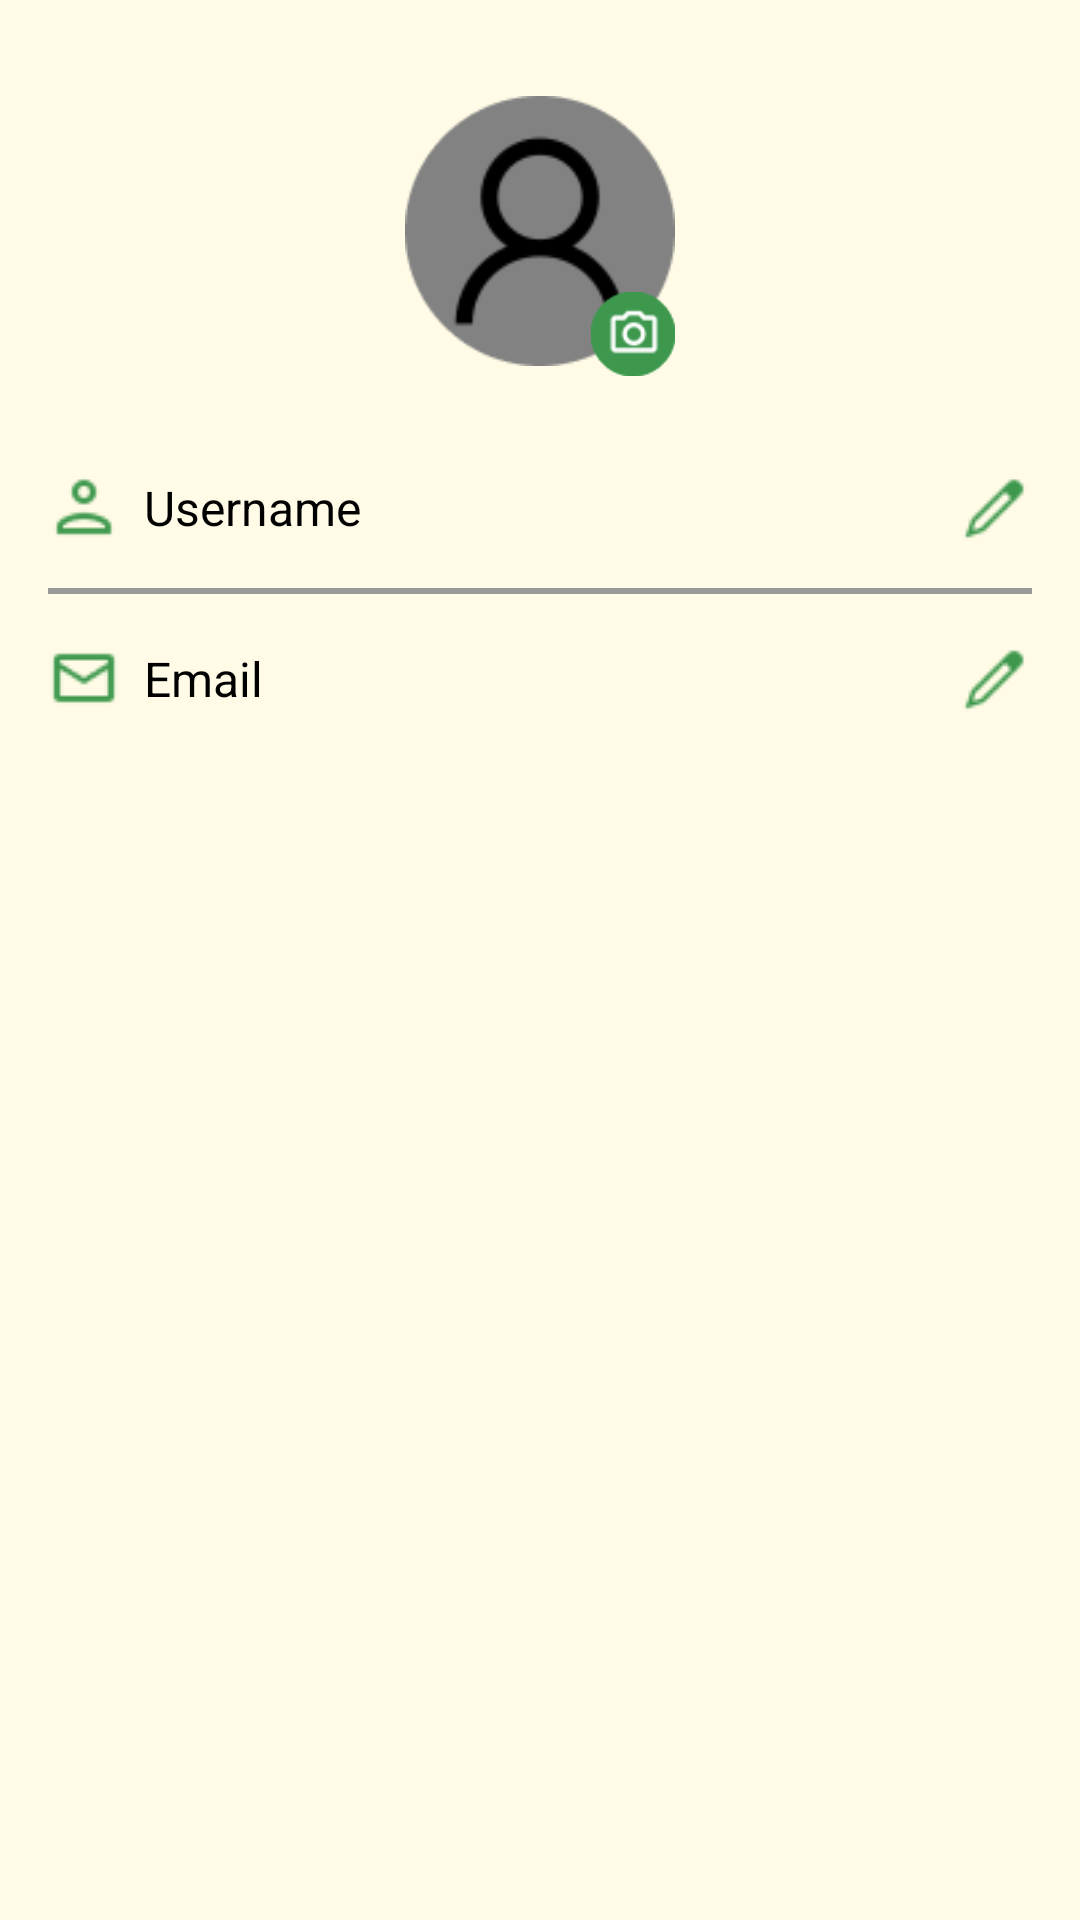

Screen size 1080 × 1920. Icon name, then its center in pixels as (x=x, y=y):
edit: (x=994, y=508), (x=994, y=679)
photo: (x=633, y=334)
